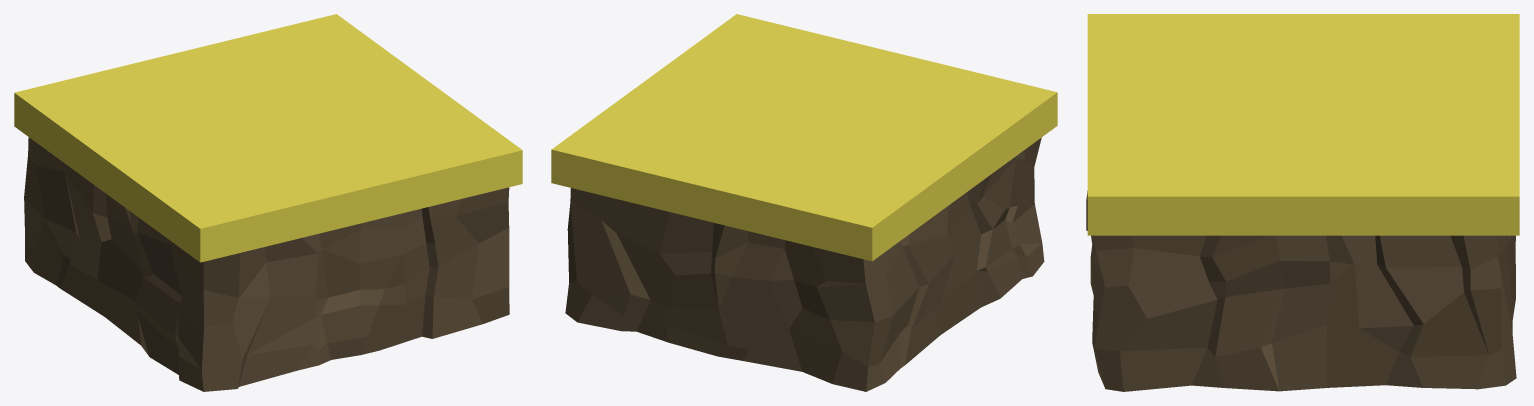
The model's file is tile_Grassland_Half_Center.fbx.
The picture shows the model from 3 angles, left to right: view 1: azimuth 30°, elevation 25°; view 2: azimuth 150°, elevation 25°; view 3: azimuth 270°, elevation 25°; orthographic projection. The views are drawn at different scales.
Visible parts, largest first — view 1: tile_Dirt; view 2: tile_Dirt; view 3: tile_Dirt.
Part boxes in pixels (box(x1,y1,x2,y2)): tile_Dirt: box(14, 14, 522, 391); tile_Dirt: box(551, 14, 1057, 391); tile_Dirt: box(1086, 14, 1519, 391).
Size of the model in its own units: 250 by 125 by 251.
